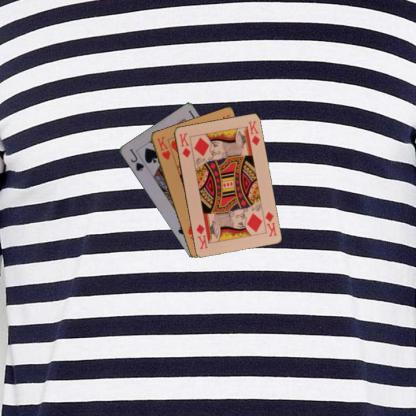Js: (127, 146, 146, 172)
Kd: (176, 130, 192, 159), (262, 209, 278, 238)
Kh: (154, 134, 171, 161)
